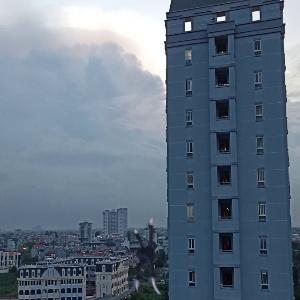drone: (117, 220, 195, 298)
